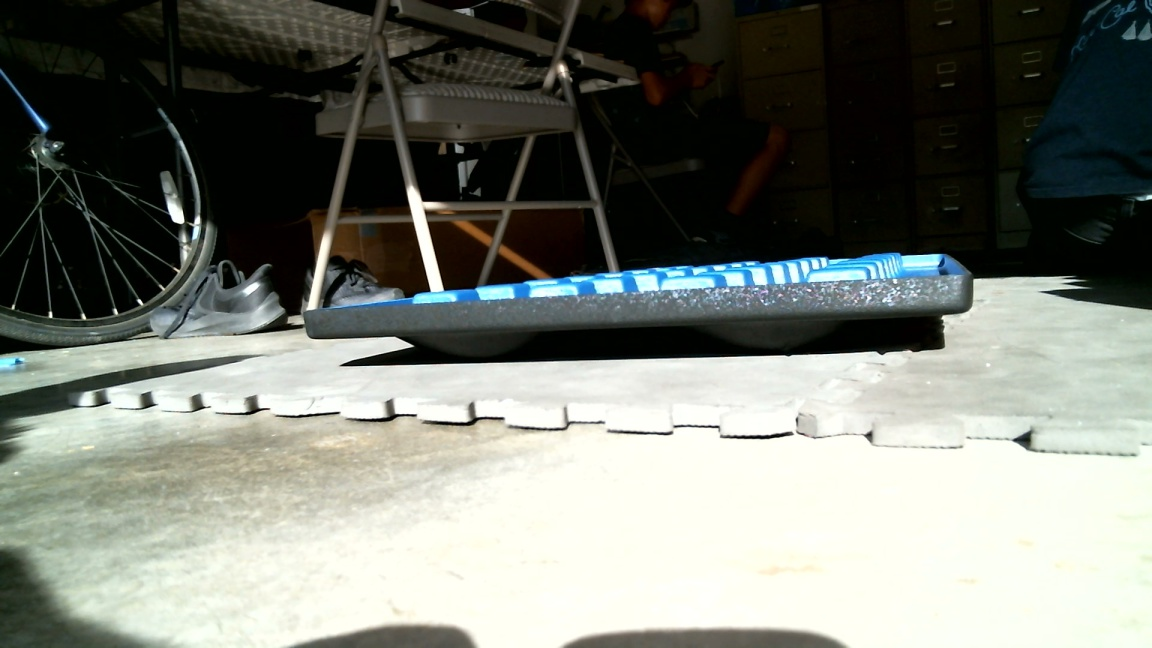blue_foundation: (305, 249, 977, 358)
